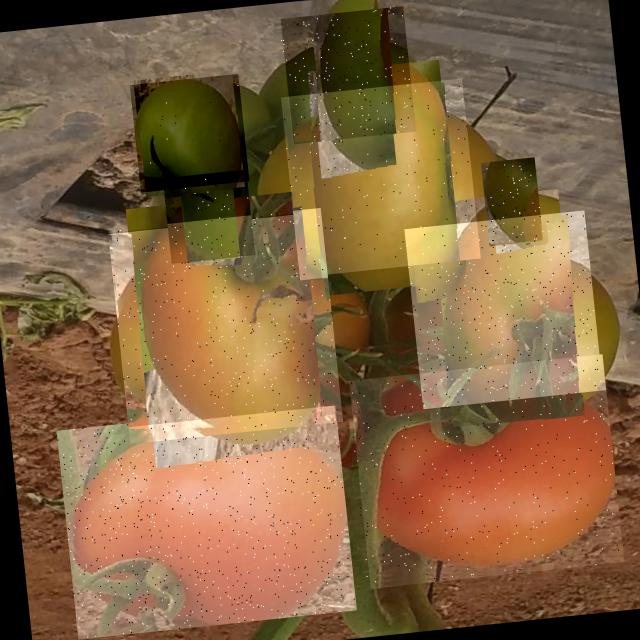Ripe Tomato: (56, 401, 356, 639), (345, 354, 623, 588), (108, 208, 342, 443), (280, 78, 480, 277), (404, 210, 603, 409)
Unripe Tomato: (277, 5, 415, 144), (129, 73, 249, 192), (162, 169, 255, 260), (480, 157, 542, 246)
